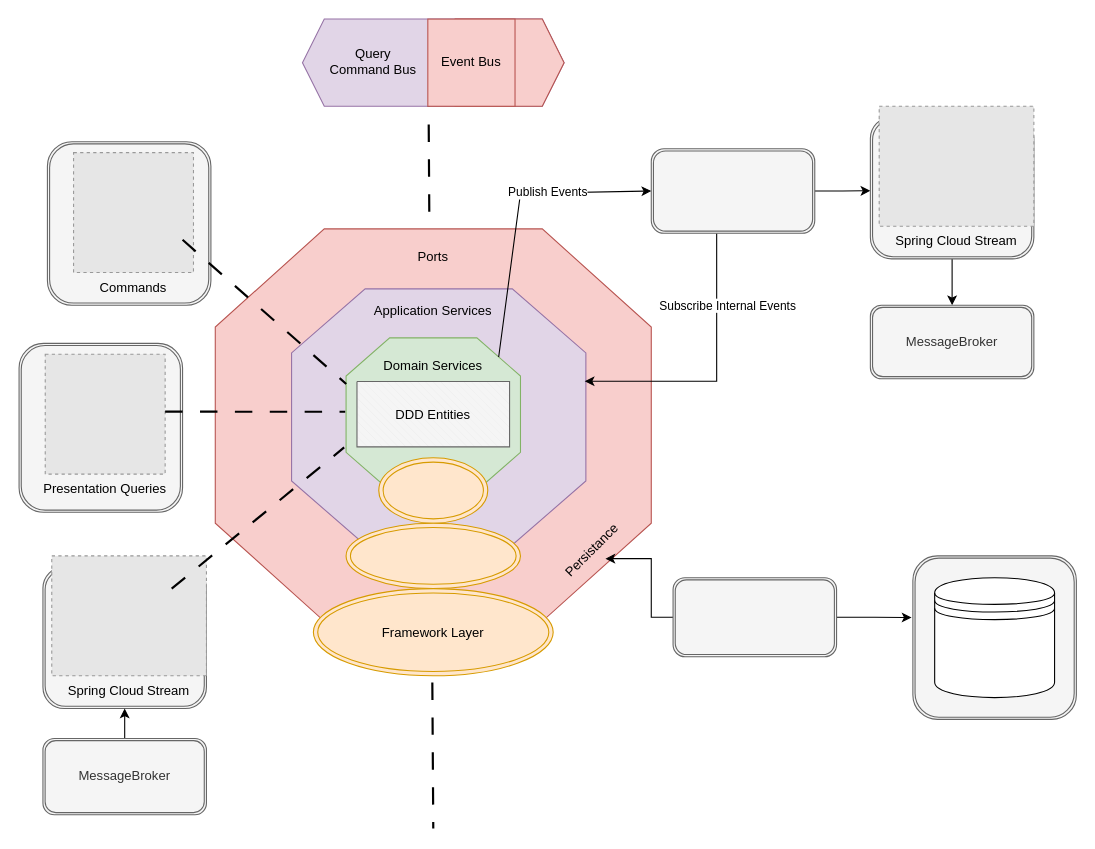
The diagram is 1095 pixels wide and 849 high, and some of its shapes have lost their labels. Grey dashed boxes stand in for pictures. The centre of each missing label's shape, as x and y in pixels:
"Application Layer" belongs at (x=432, y=555).
"Domain Layer" belongs at (x=433, y=490).
"EventHandler" belongs at (x=732, y=190).
"Hibernate" belongs at (x=754, y=617).
"Relational Database" belongs at (x=994, y=637).
